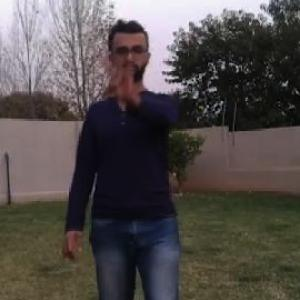takeoff-hand: (103, 57, 142, 106)
